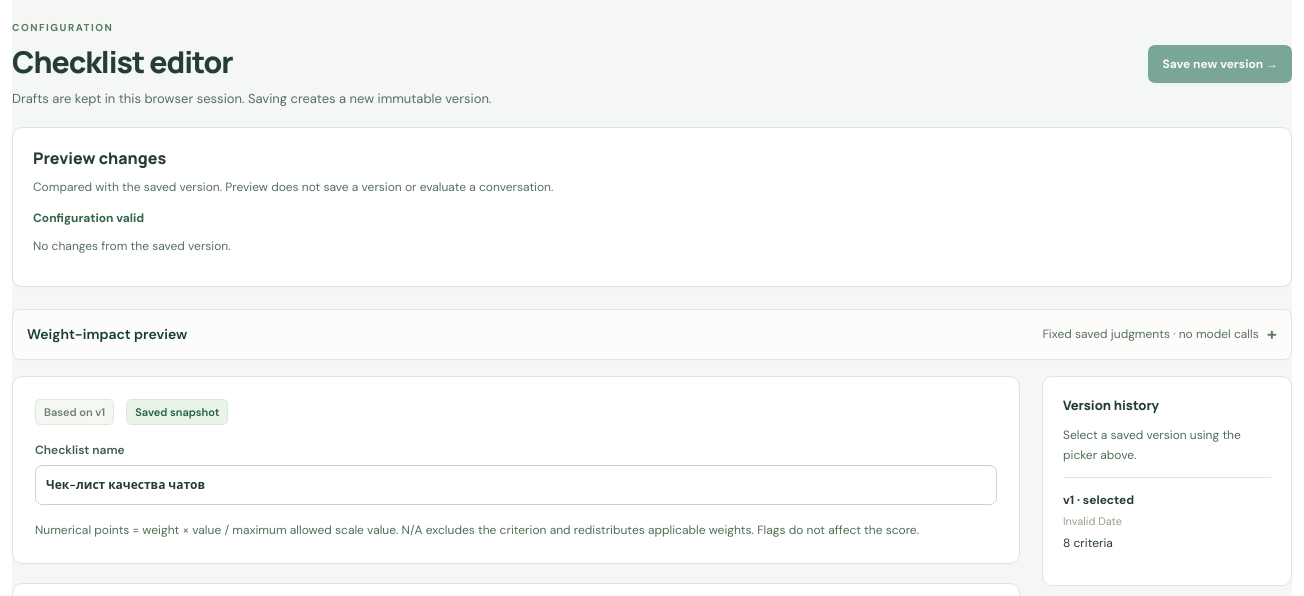
Scenario: ignores a late successful preview for an older draft
Replace the text in the field labelled "Checklist name" with "First draft" at (516,485), box [35,465,997,505]
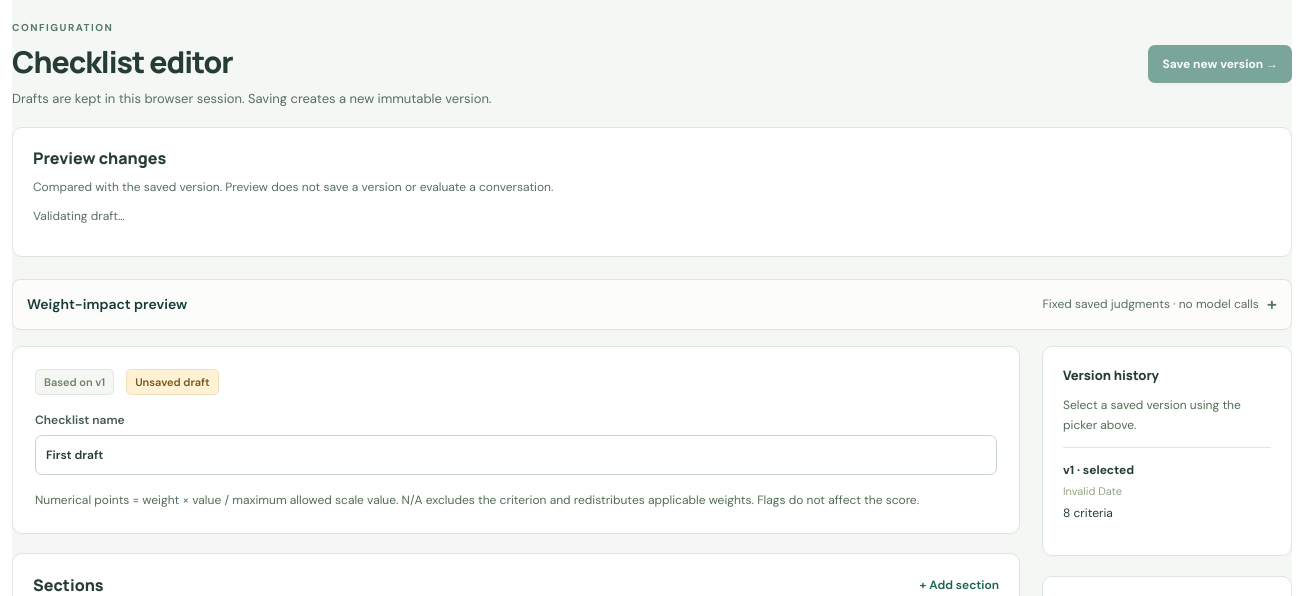
Replace the text in the field labelled "Checklist name" with "Second draft" at (516,455), box [35,435,997,475]
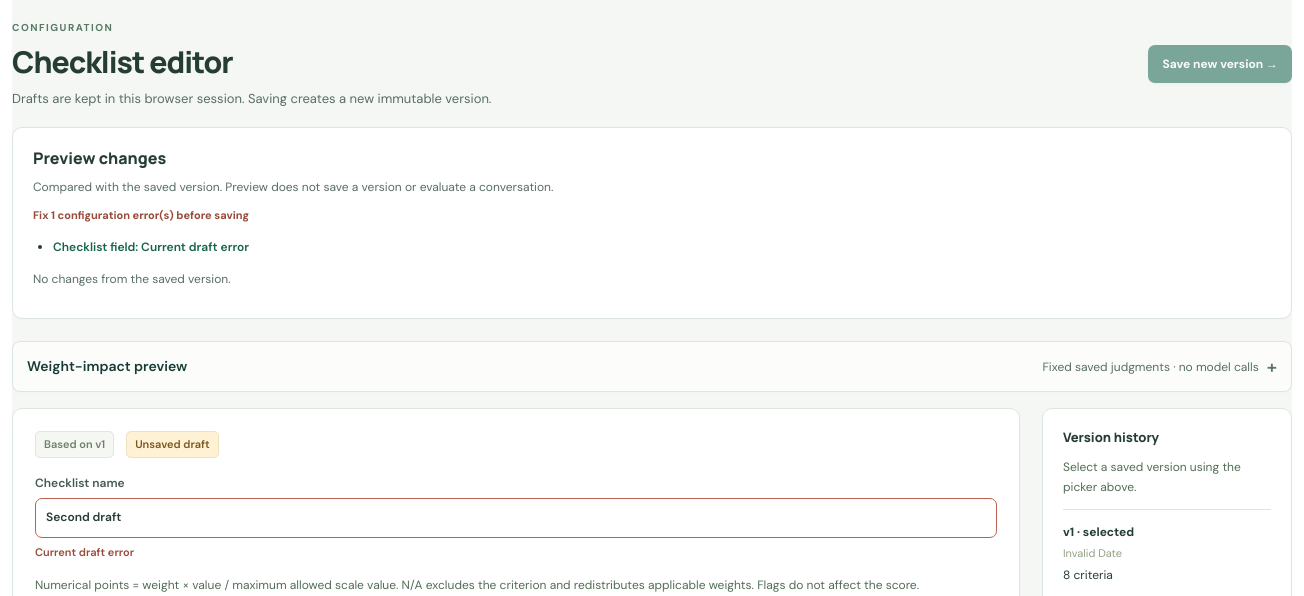
Expected: the button "Save new version →" is disabled, [1148,45,1292,83]
Result: the text "Current draft error" is shown at [35,545,134,559]
